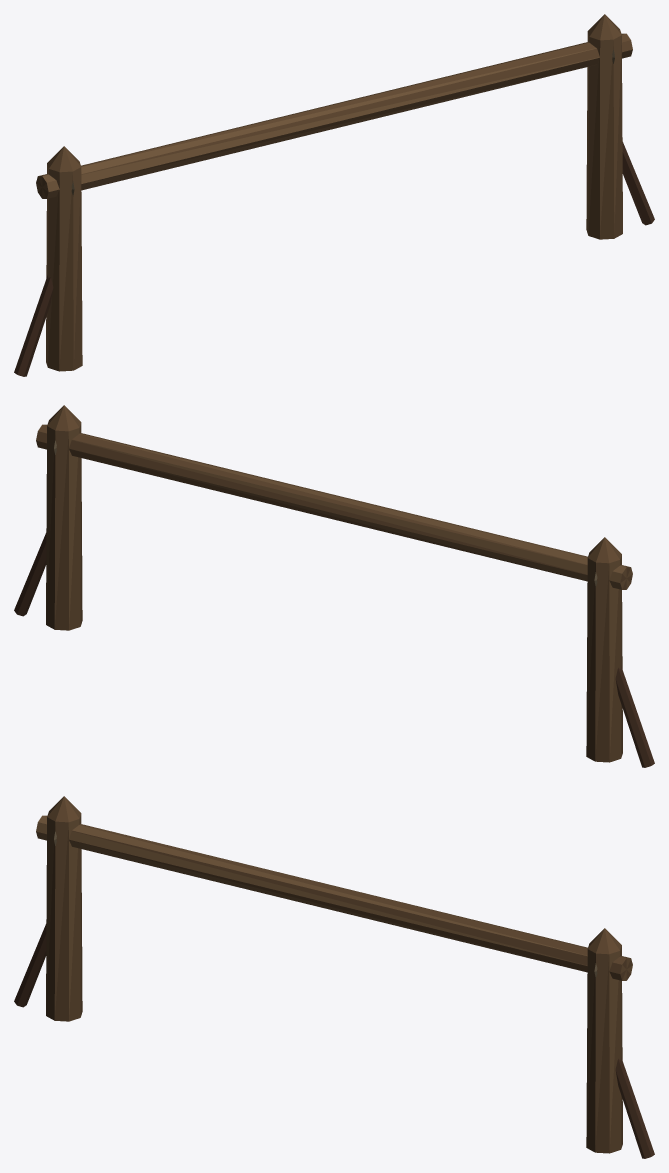
Rendered from c2_port.glb.
3 renders of one model, top to bottom at view 1: azimuth 30°, elevation 25°; view 2: azimuth 150°, elevation 25°; view 3: azimuth 330°, elevation 25°, orthographic.
Parts seen in each view (by area): view 1: C2_palisadeport; view 2: C2_palisadeport; view 3: C2_palisadeport.
Part boxes in pixels (x1=…): C2_palisadeport: x1=14, y1=14, x2=654, y2=376; C2_palisadeport: x1=14, y1=405, x2=654, y2=767; C2_palisadeport: x1=14, y1=796, x2=654, y2=1158.
Size of the model in its own units: 17.46 by 5.75 by 0.98.
